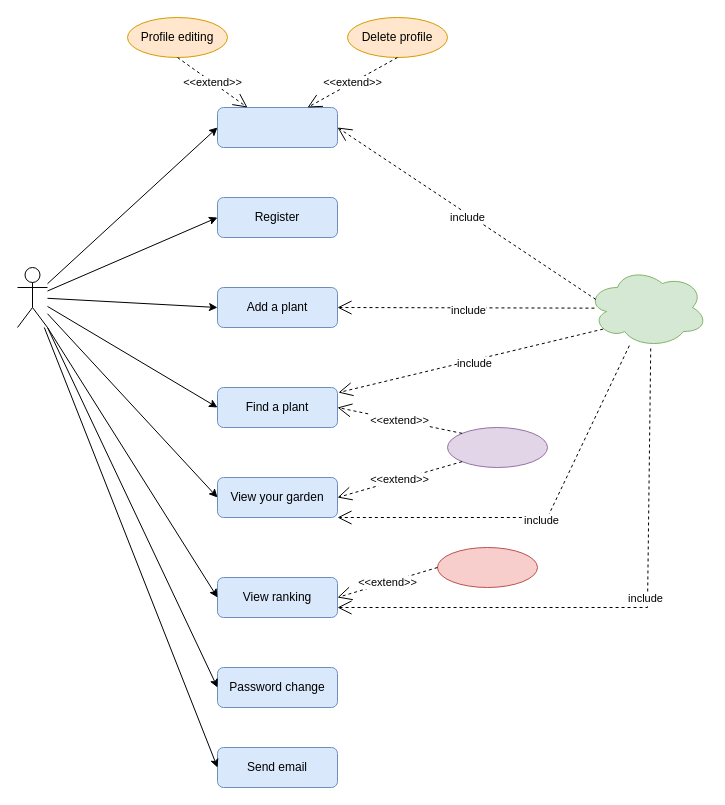
Some shapes in this 725 by 805 pixel diagram are drawn without their labels. Each missing label, with the centre of its shape:
"Downloading information" goes at [487,567].
"Logging in" goes at [647,307].
"Profile access" goes at [277,127].
"User" goes at [32,297].
"View the plant profile" goes at [497,447].
